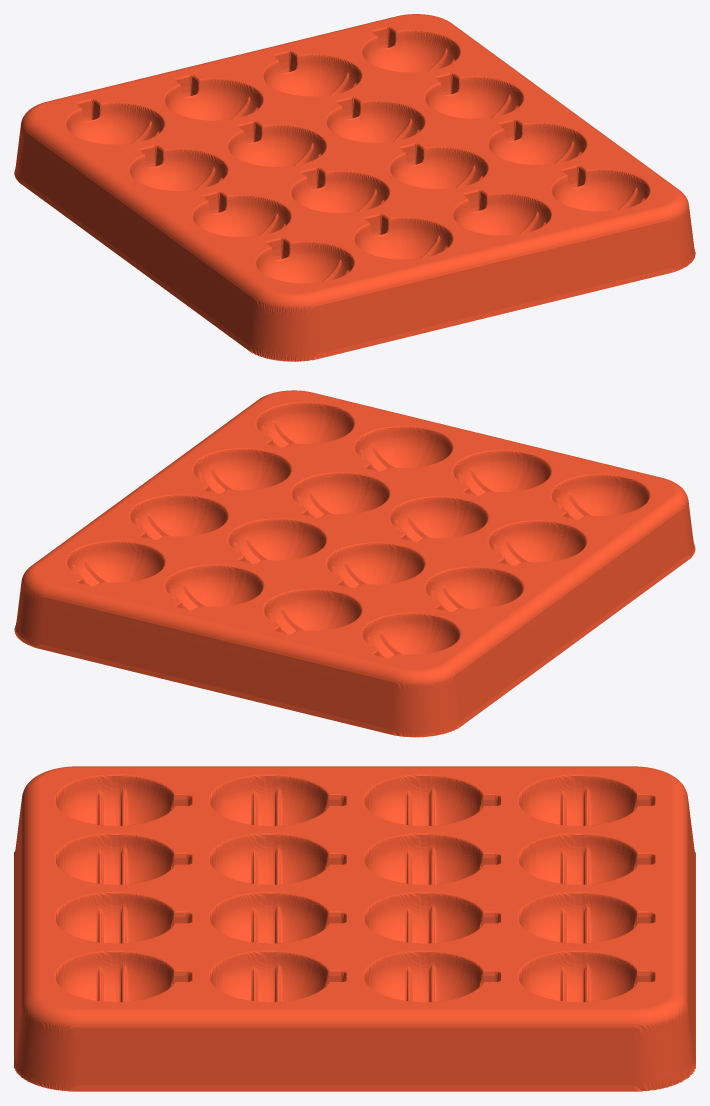
File: mold.glb
The picture shows the model from 3 angles, top to bottom: view 1: azimuth 30°, elevation 25°; view 2: azimuth 150°, elevation 25°; view 3: azimuth 270°, elevation 25°; orthographic projection. The views are drawn at different scales.
Visible parts, largest first — view 1: geometry_0; view 2: geometry_0; view 3: geometry_0.
Part boxes in pixels (box(x1,y1,x2,y2)): geometry_0: box(14, 14, 695, 361); geometry_0: box(14, 390, 695, 737); geometry_0: box(14, 766, 695, 1091).
Size of the model in its own units: 0.0884 by 0.0114 by 0.0972.
